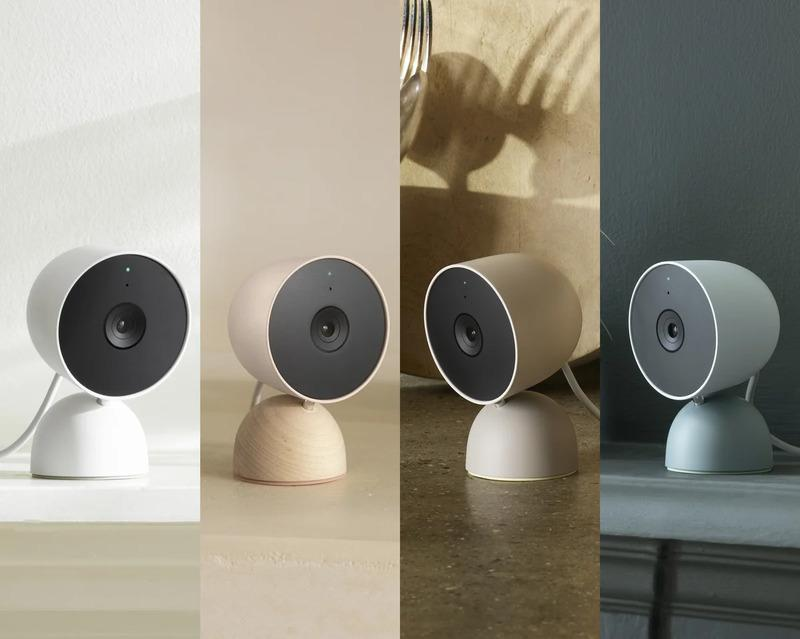nest: (22, 243, 191, 393), (628, 251, 785, 409), (420, 252, 581, 397), (224, 262, 389, 395)
